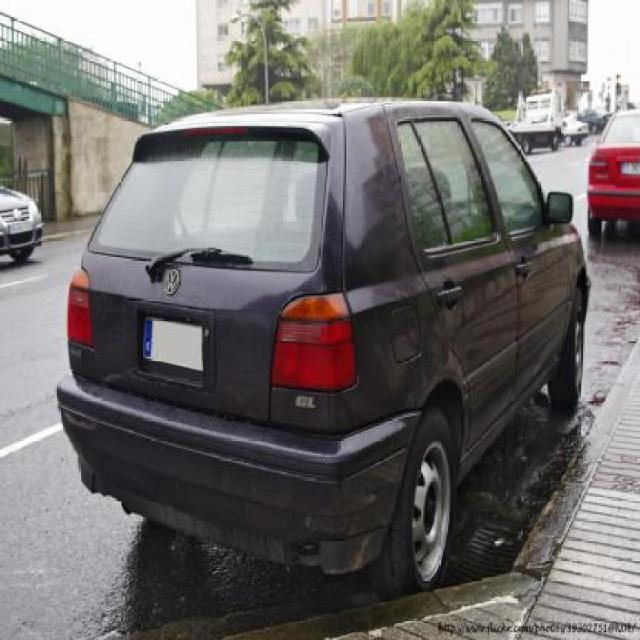Licenseplate: (137, 308, 209, 372)
